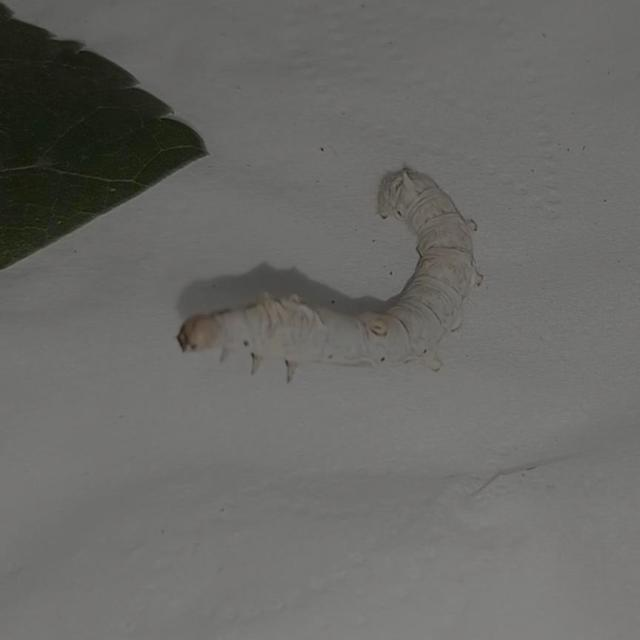Healthy: (163, 162, 493, 391)
